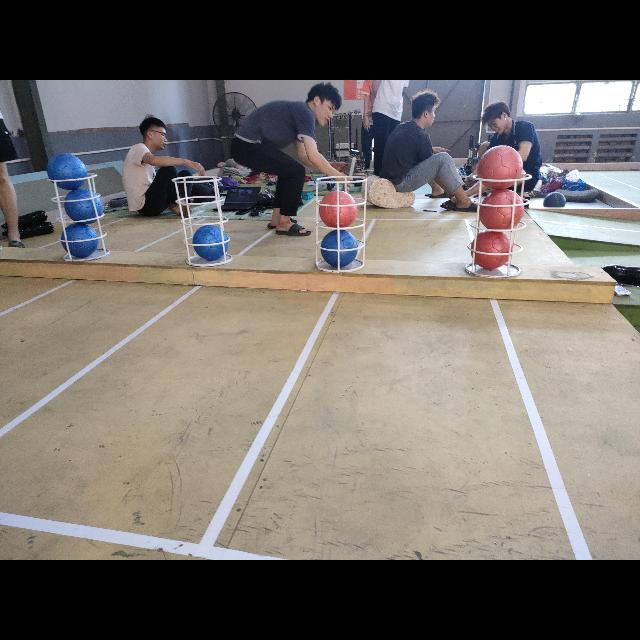B: (320, 228, 360, 268), (45, 152, 89, 188), (192, 223, 230, 260), (64, 192, 106, 222), (62, 225, 100, 257)
R: (478, 144, 524, 190), (478, 192, 528, 230), (470, 231, 512, 271), (318, 190, 358, 228)
